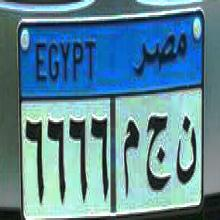6: (89, 107, 111, 213), (24, 113, 45, 205), (45, 114, 66, 203), (68, 113, 87, 207)
jeem: (144, 110, 172, 197)
meem: (122, 110, 140, 200)
noon: (175, 110, 197, 194)
